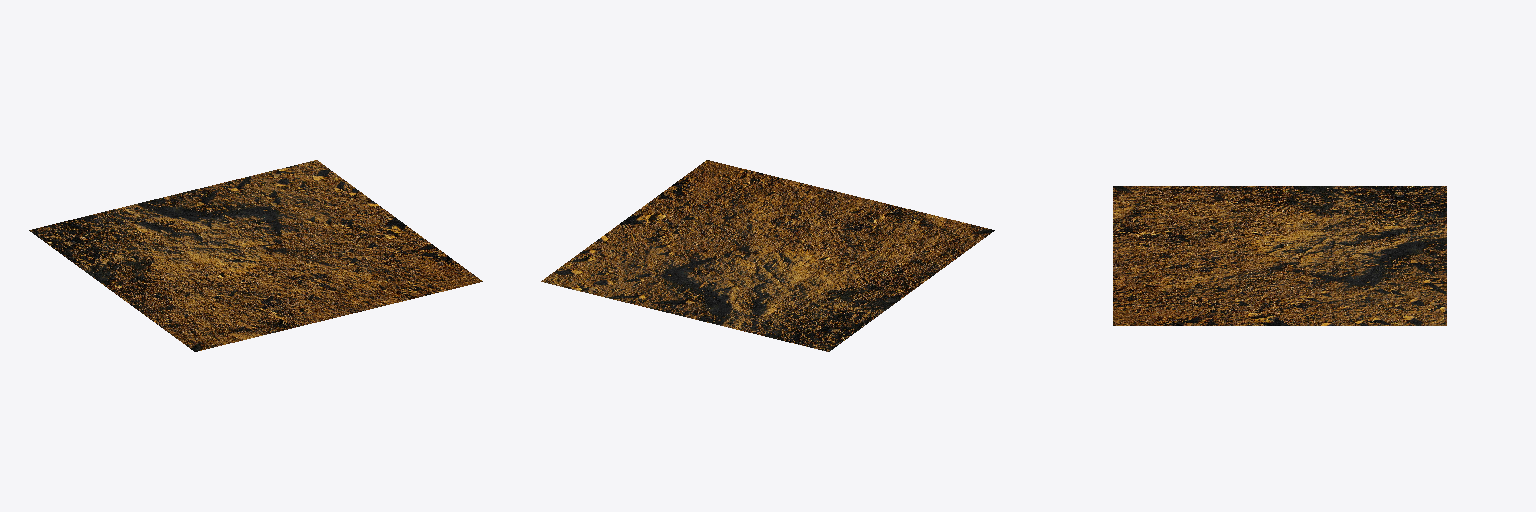
3 views of the same model, side by side, from view 1: azimuth 30°, elevation 25°; view 2: azimuth 150°, elevation 25°; view 3: azimuth 270°, elevation 25° (orthographic).
Parts seen in each view (by area): view 1: Plane; view 2: Plane; view 3: Plane.
Boxes of the visible parts, x1,y1,x2,y2 form: Plane: [29, 160, 482, 351]; Plane: [541, 160, 994, 351]; Plane: [1113, 186, 1446, 325].
Bounding box in the file's own units: 2 × 0 × 2.
1 materials, 1 textured.